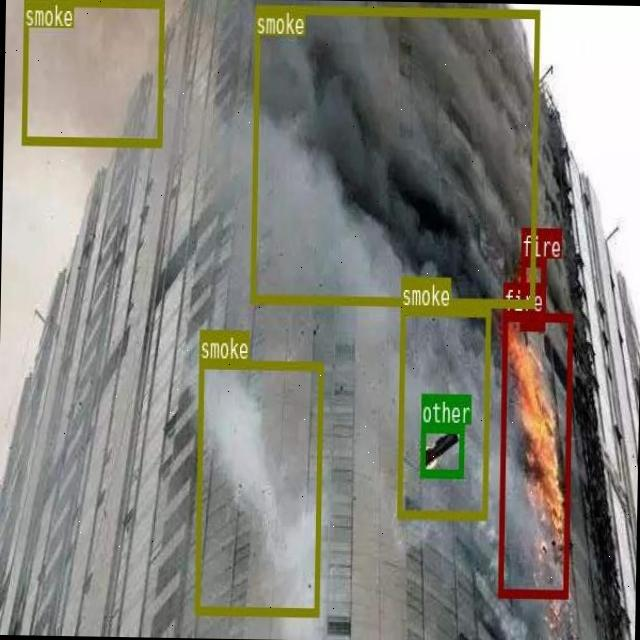fire: (497, 312, 571, 596), (519, 258, 544, 330)
smoke: (250, 3, 538, 306), (195, 359, 322, 614), (21, 0, 163, 145), (396, 305, 490, 518)
